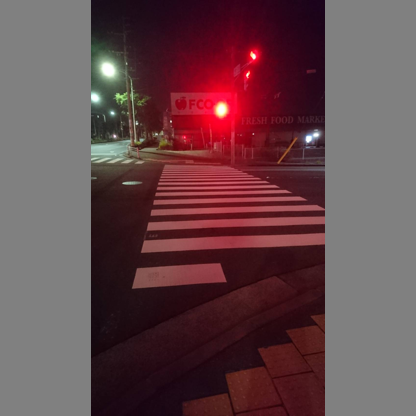brailleblock: (178, 310, 323, 415)
crosswalk: (122, 169, 323, 292)
